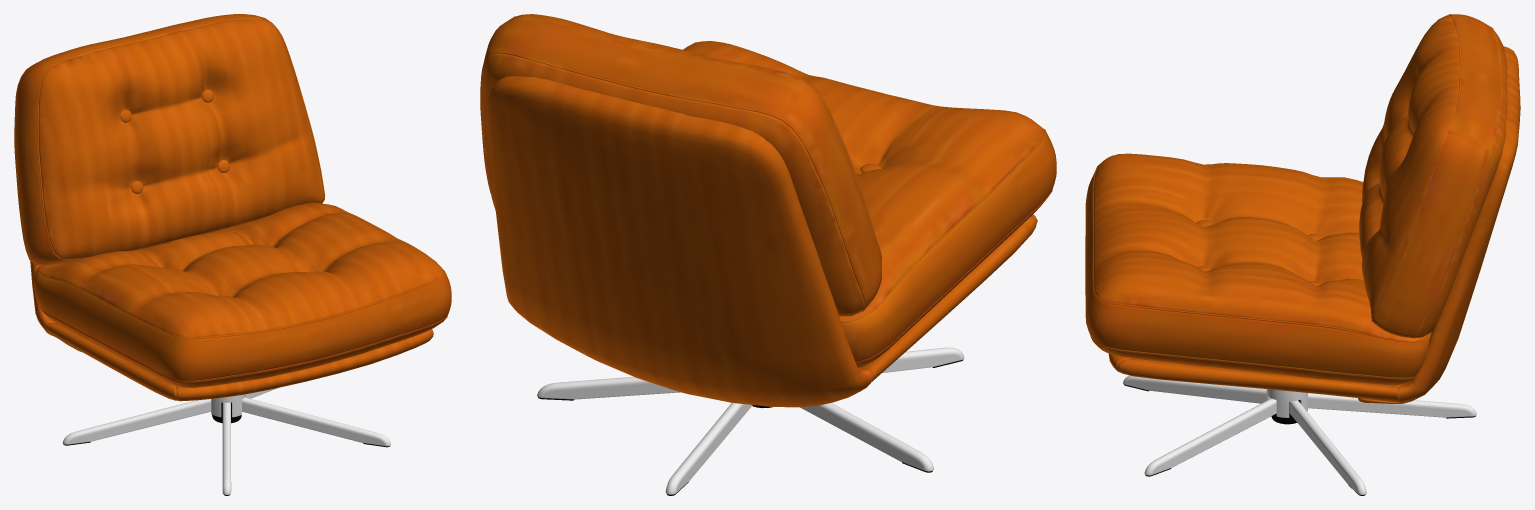
The model's file is 01 - DYVLINGE - 旋轉休閒椅，Kelinge 橘色 IKEA 線上購物.glb.
3 renders of one model, left to right at view 1: azimuth 30°, elevation 25°; view 2: azimuth 150°, elevation 25°; view 3: azimuth 270°, elevation 25°, orthographic. The views are drawn at different scales.
Parts seen in each view (by area): view 1: 80581919_swivel_armchair:1, 80581919_swivel_armchair:2; view 2: 80581919_swivel_armchair:1, 80581919_swivel_armchair:2; view 3: 80581919_swivel_armchair:1, 80581919_swivel_armchair:2.
Boxes of the visible parts, x1,y1,x2,y2 form: 80581919_swivel_armchair:1: [14, 14, 451, 401]; 80581919_swivel_armchair:2: [62, 388, 390, 494]; 80581919_swivel_armchair:1: [480, 14, 1056, 407]; 80581919_swivel_armchair:2: [537, 347, 964, 494]; 80581919_swivel_armchair:1: [1085, 14, 1520, 403]; 80581919_swivel_armchair:2: [1123, 375, 1476, 494].
Bounding box in the file's own units: 0.63 × 0.68 × 0.75.
Materials: 3 (1 with a texture image).
